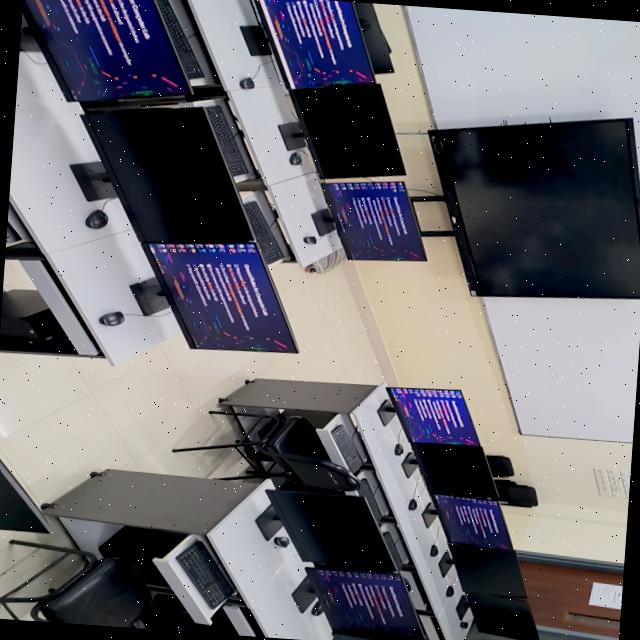Chair: (171, 414, 358, 491), (0, 539, 151, 627), (146, 613, 214, 633), (494, 479, 537, 507), (485, 455, 513, 477)
Cpu: (0, 289, 76, 354), (147, 592, 184, 614)
Digital board: (427, 118, 640, 298)
Keyboard: (201, 100, 257, 181), (174, 538, 234, 609), (156, 0, 204, 80), (241, 192, 290, 266), (328, 423, 364, 471), (355, 477, 383, 521), (381, 530, 406, 569), (5, 215, 22, 246)
Monitor: (69, 107, 251, 243), (128, 241, 297, 353), (18, 0, 190, 103), (277, 82, 404, 179), (239, 0, 374, 89), (257, 487, 396, 572), (438, 543, 538, 640), (291, 567, 421, 640), (310, 181, 425, 260), (377, 387, 478, 446), (401, 441, 494, 498), (421, 494, 511, 549), (0, 460, 48, 533), (328, 630, 428, 640), (414, 465, 418, 469)
Mouse: (84, 208, 108, 230), (97, 310, 124, 326), (288, 150, 303, 165), (310, 601, 323, 616), (238, 77, 254, 89), (273, 536, 288, 547), (392, 443, 403, 456), (407, 498, 417, 511), (301, 236, 316, 244), (444, 584, 454, 596), (428, 544, 437, 557)
